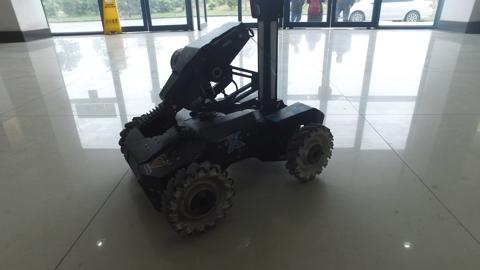car: (338, 1, 434, 23)
chariot: (119, 1, 335, 237)
